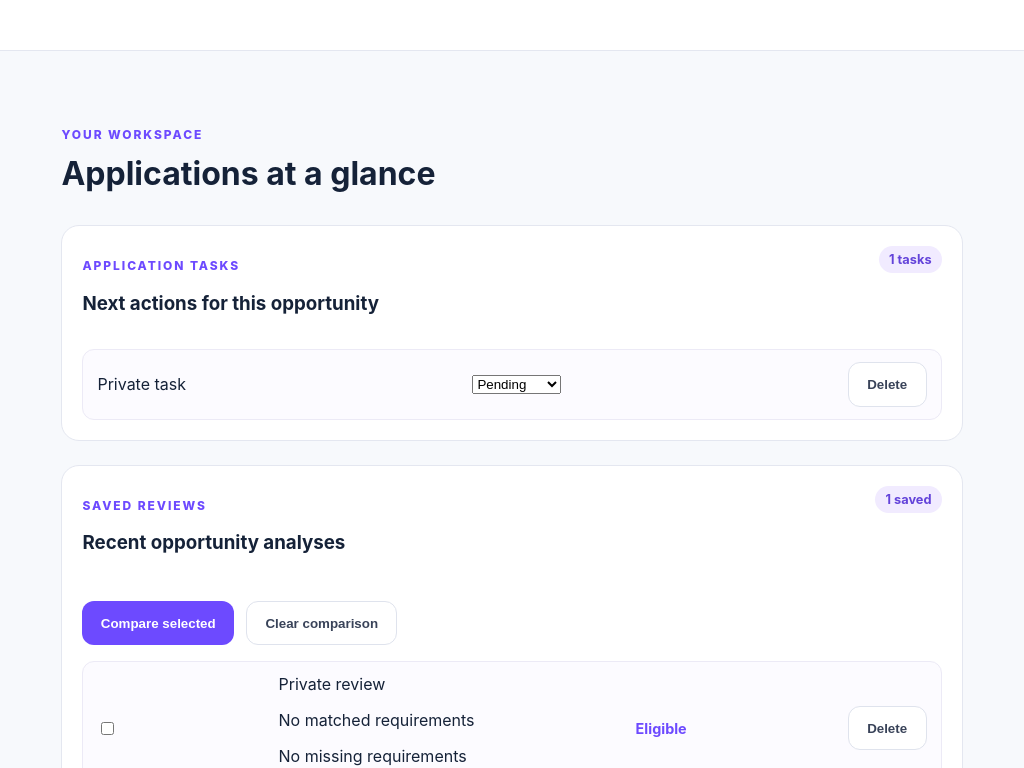
ApplyLens UI › deletes individual tasks and reviews from the workspace
(page scrolled)
Step 1. Click the button "Delete" in the row of "Private task" → (887, 384), box [848,362,927,407]
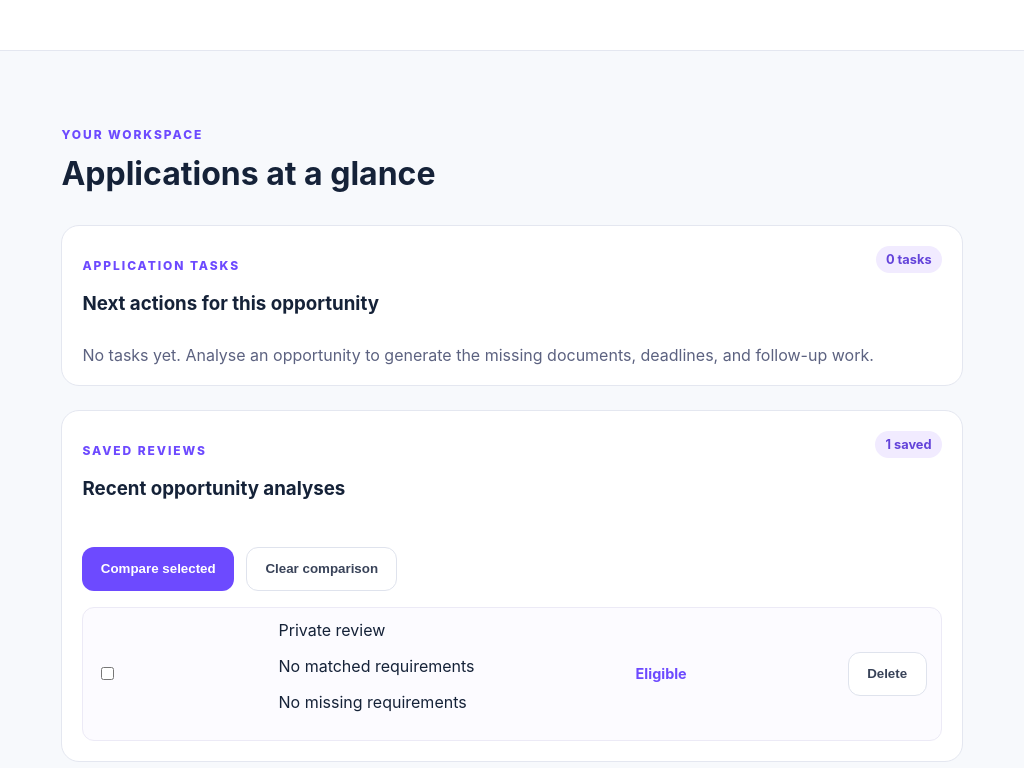
Result: the text "Private task" is gone
Step 2. Click the button "Delete" → (887, 674), box [848,652,926,696]
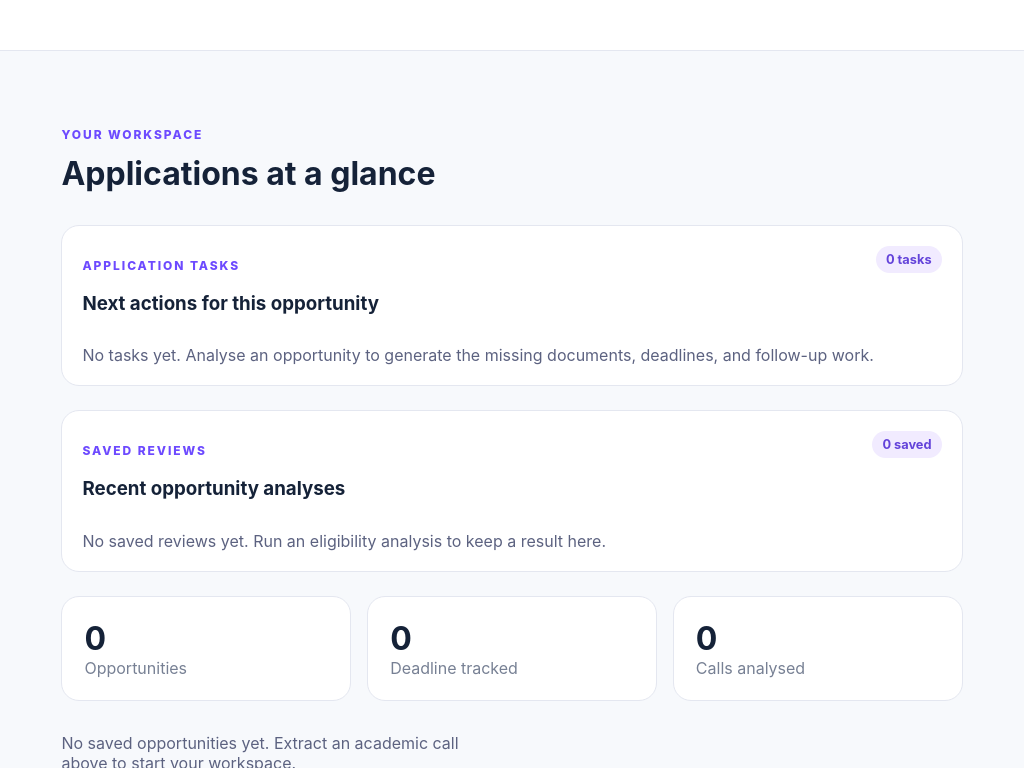
Result: the text "Private review" is gone
